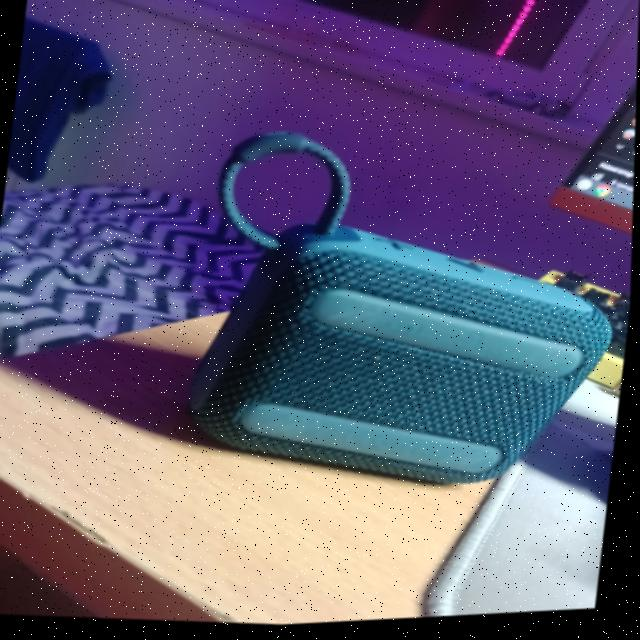column JBL: (0, 95, 637, 528)
